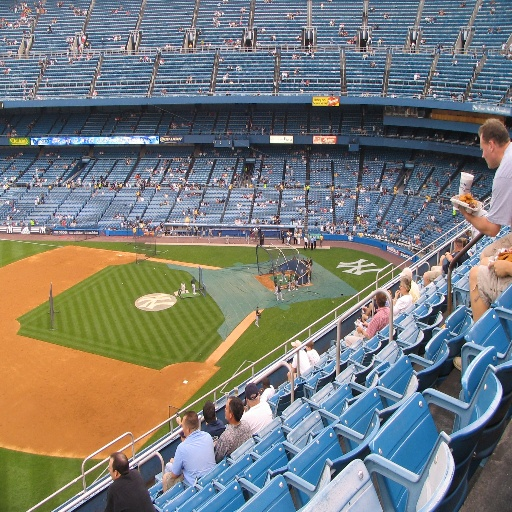hand: (488, 258, 511, 278), (459, 205, 475, 220), (355, 322, 362, 333), (362, 319, 369, 327), (175, 415, 180, 425), (393, 290, 399, 298)
